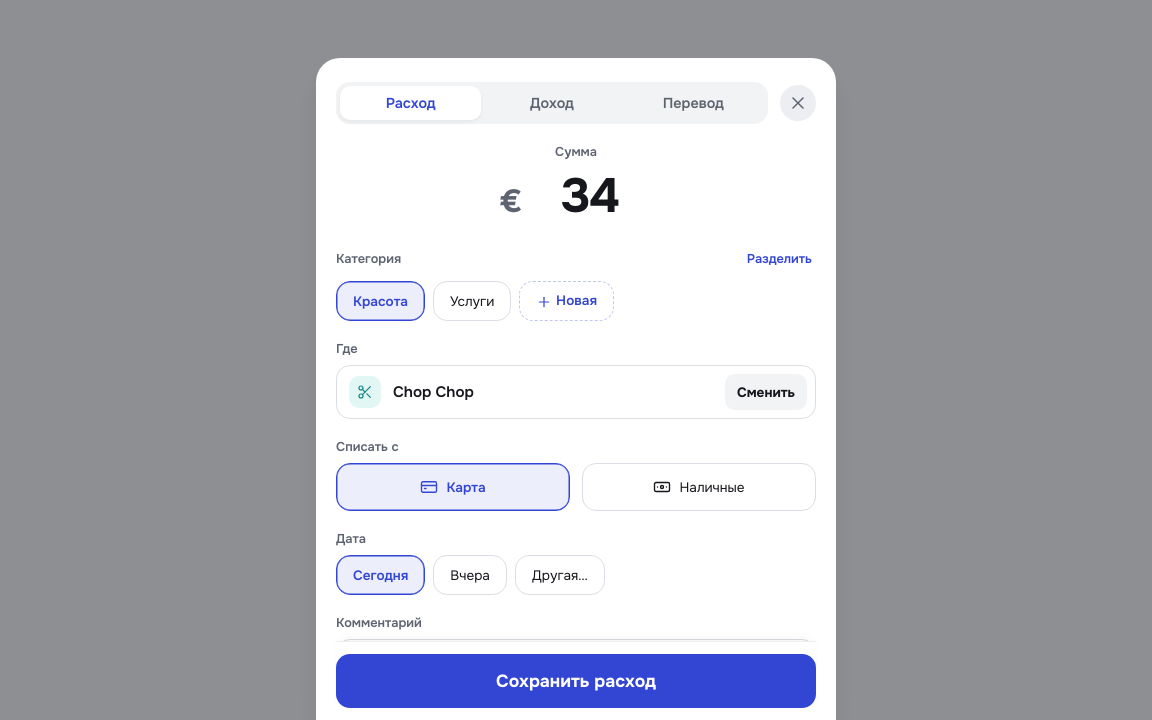
it: separate company selection and transaction comments › keeps the entered company and comment when registry creation fails, without submitting the expense
Earlier steps of the test are not shown.
Step 1. Click the button "Сохранить расход" → {"x": 576, "y": 681}, box [336,654,816,708]
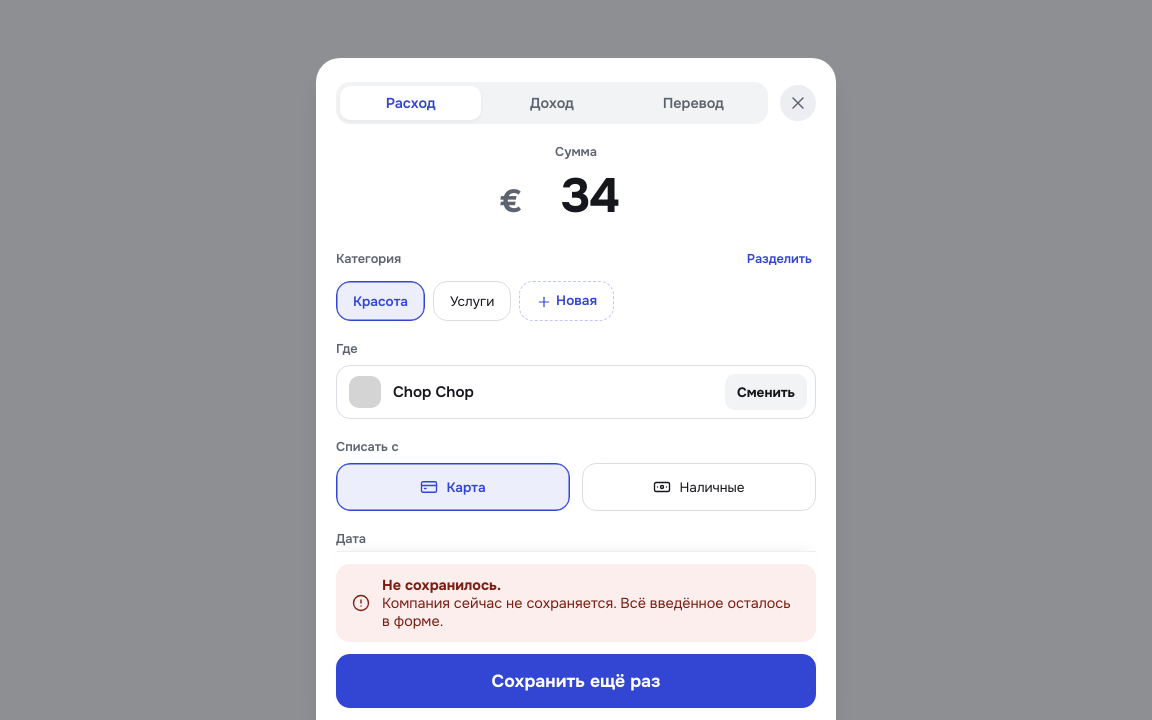
Expected: the button "Chop Chop Сменить" is shown, [336,365,816,419]
Expected: the button "Сохранить ещё раз" is enabled, [336,654,816,708]
Expected: the message shows "Компания сейчас не сохраняется", [382,594,791,630]
